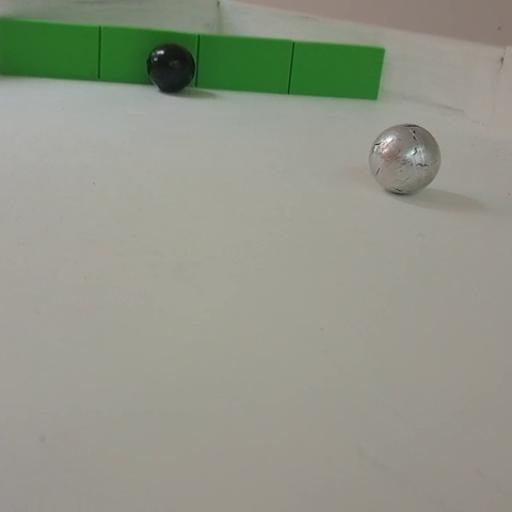alive: (368, 124, 440, 195)
dead: (146, 43, 196, 92)
